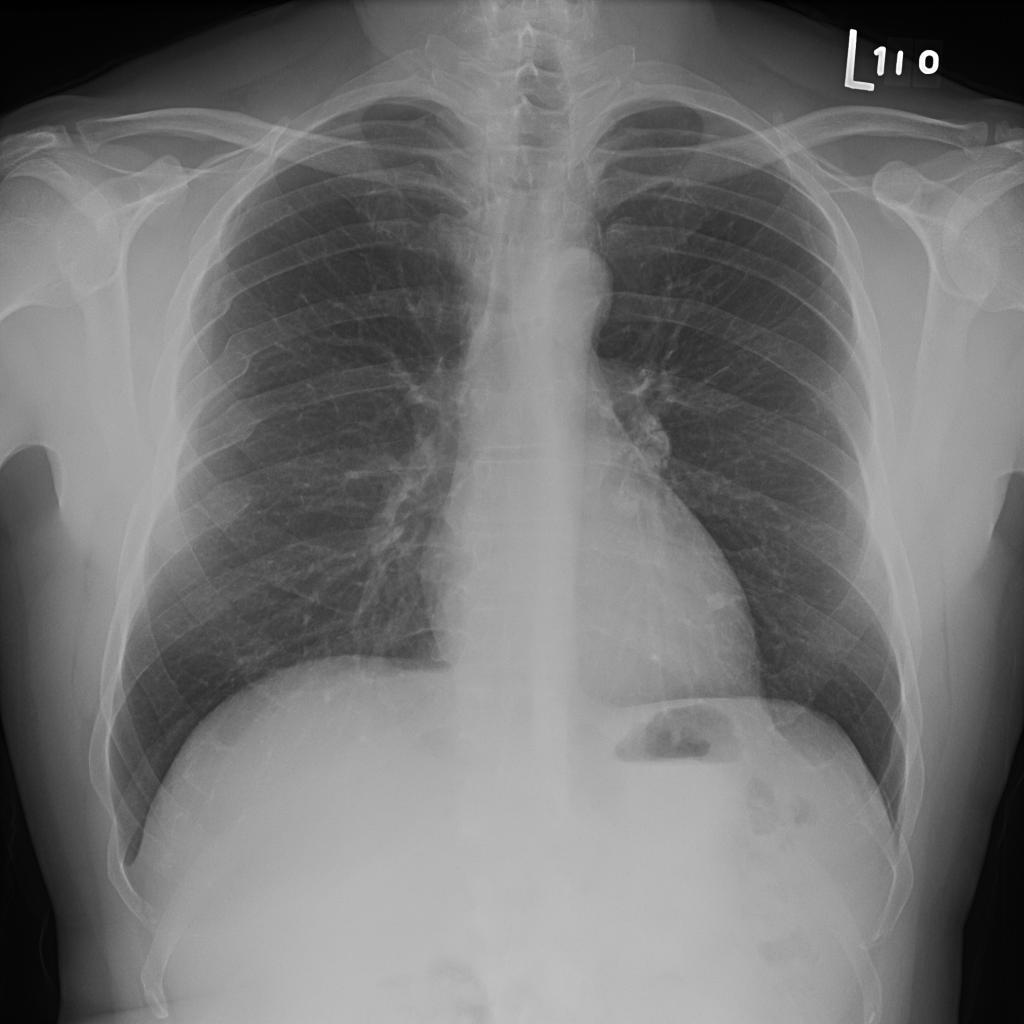Nodule: (319, 323, 346, 347), (353, 293, 376, 317)
